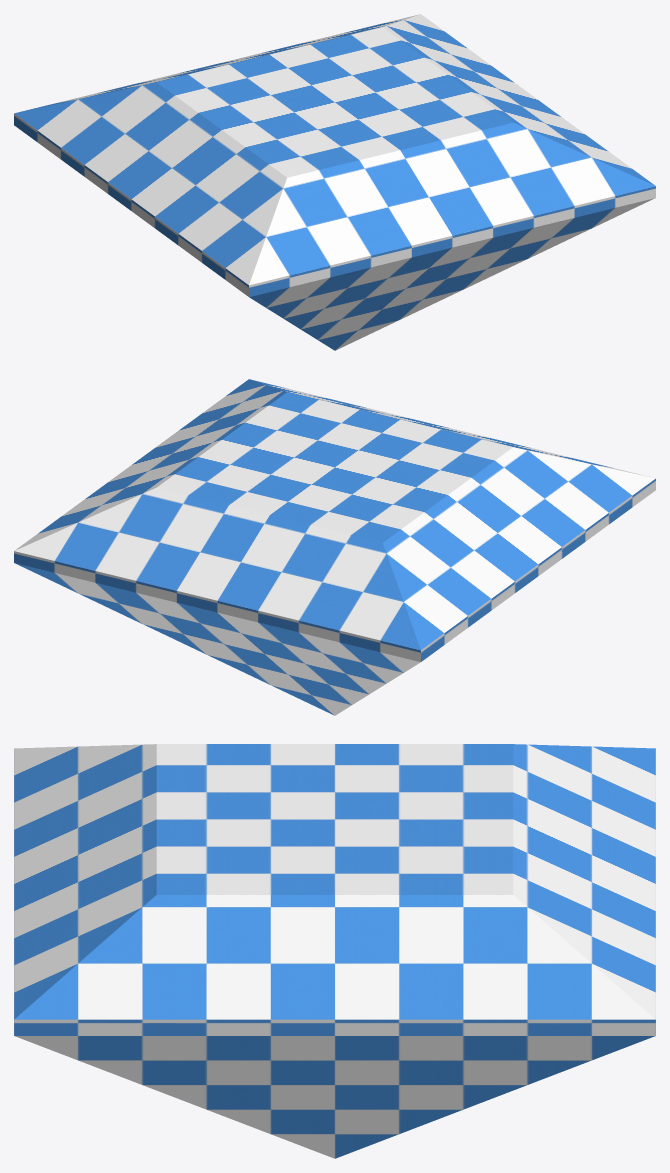
The model's file is TableCutPointy.FBX.
3 renders of one model, top to bottom at view 1: azimuth 30°, elevation 25°; view 2: azimuth 150°, elevation 25°; view 3: azimuth 270°, elevation 25°, orthographic. The views are drawn at different scales.
Parts seen in each view (by area): view 1: TableCutPointy; view 2: TableCutPointy; view 3: TableCutPointy.
Boxes of the visible parts, x1,y1,x2,y2 form: TableCutPointy: (14, 14, 655, 350); TableCutPointy: (14, 379, 655, 715); TableCutPointy: (14, 744, 655, 1158).
Bounding box in the file's own units: 1.14 × 0.6667 × 1.14.
